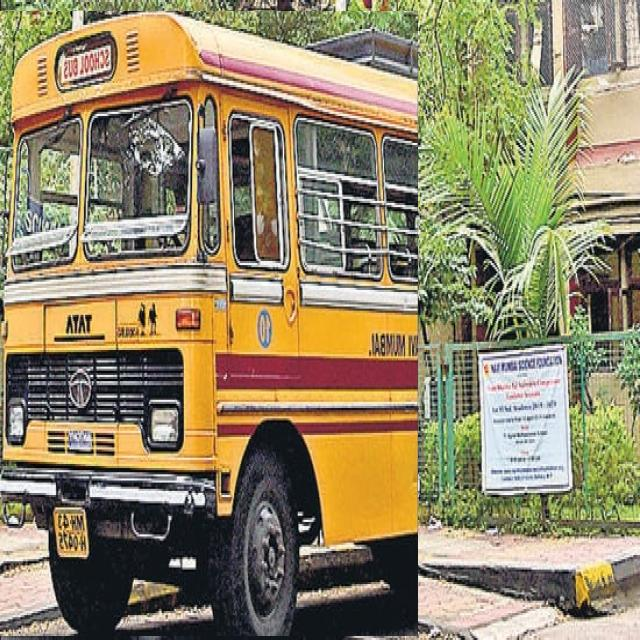bus: (0, 11, 418, 636)
